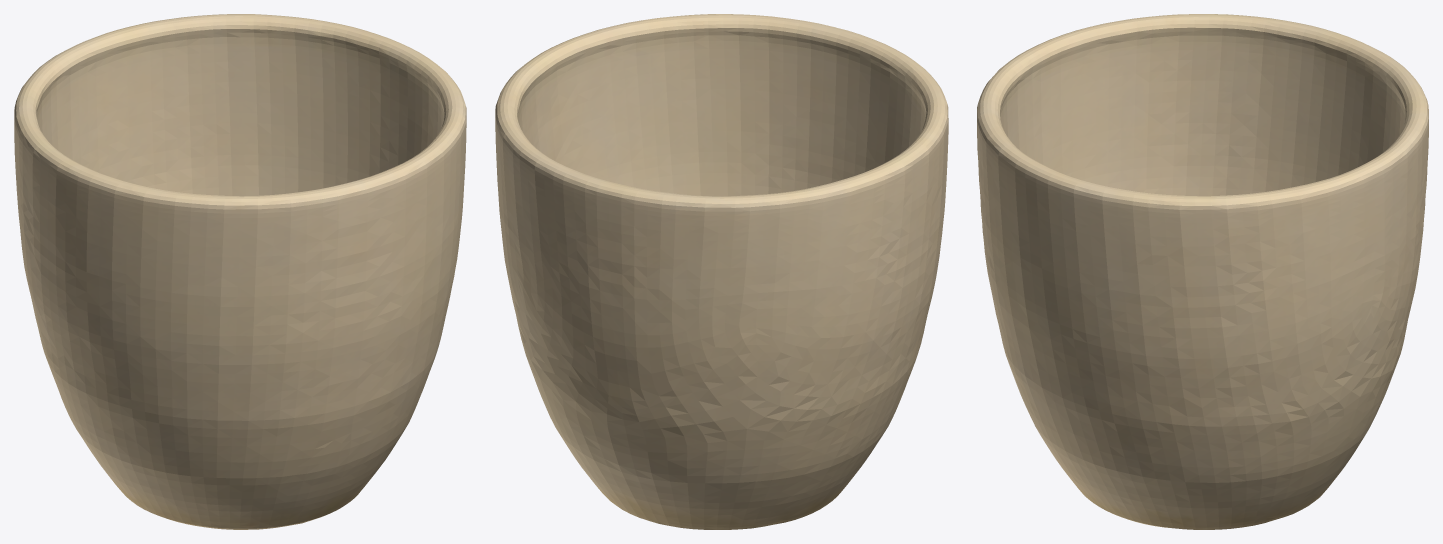
Rendered from cup.glb.
3 renders of one model, left to right at view 1: azimuth 30°, elevation 25°; view 2: azimuth 150°, elevation 25°; view 3: azimuth 270°, elevation 25°, orthographic.
Parts seen in each view (by area): view 1: model; view 2: model; view 3: model.
Part boxes in pixels (<box>): model: <box>14,14,466,529</box>; model: <box>495,14,948,529</box>; model: <box>977,14,1428,529</box>.
Bounding box in the file's own units: 0.3 × 0.273 × 0.2996.
Materials: 1 (1 with a texture image).
